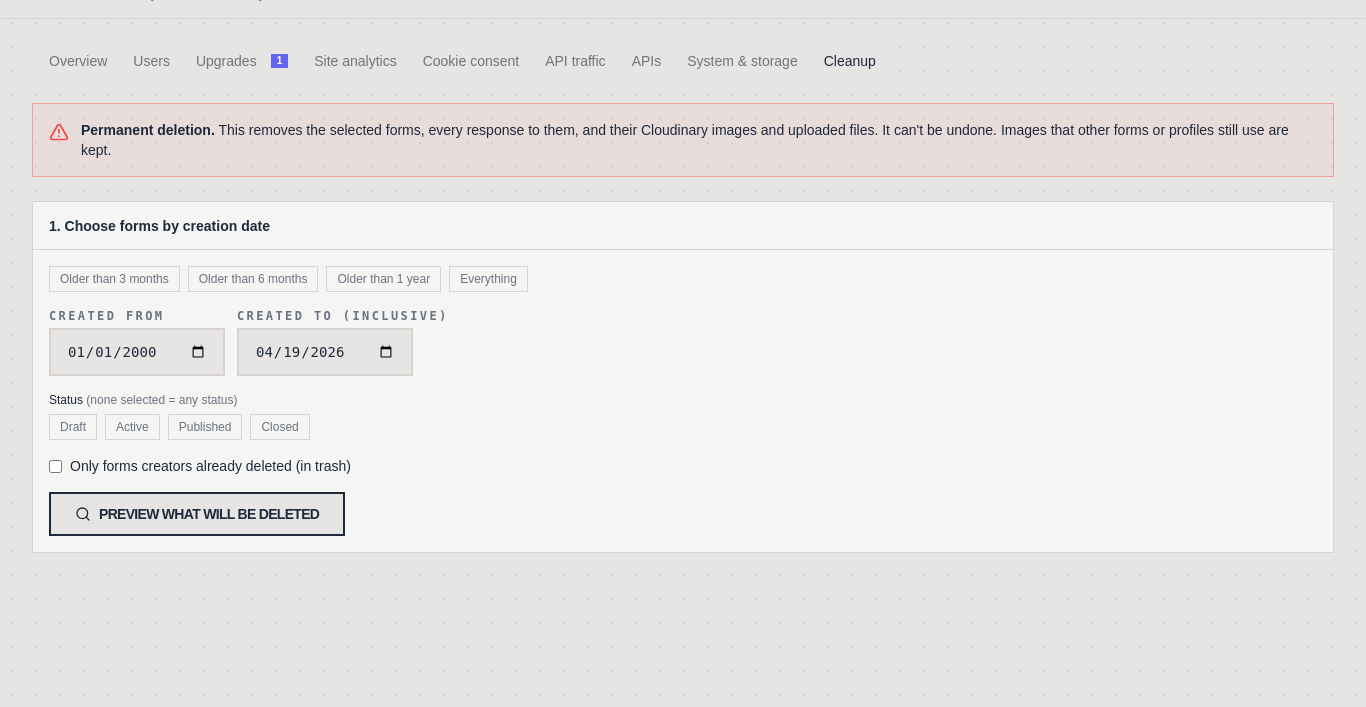
Scenario: Admin dashboard › cleanup: preview, then delete only after typing DELETE, sending the previewed count
Click the button "Preview what will be deleted". click: x=197, y=514
box: x1=49 y1=492 x2=345 y2=536
(page scrolled)
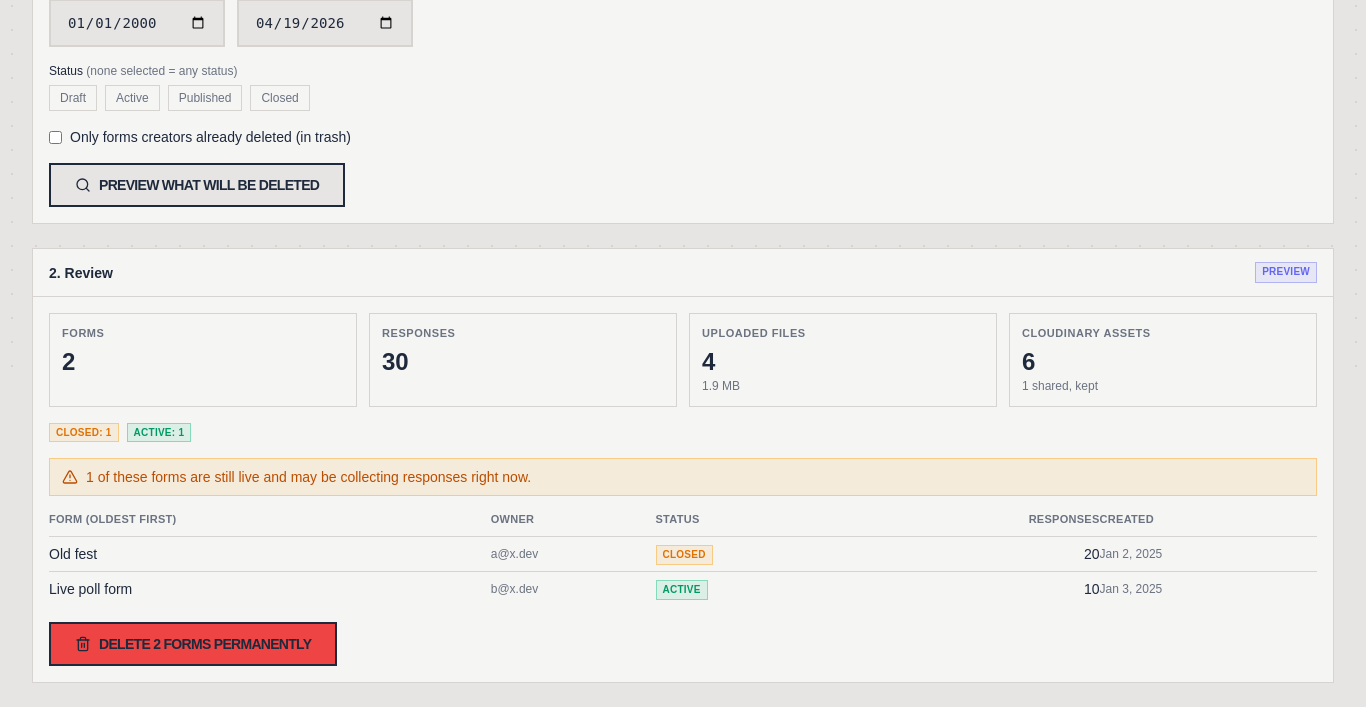
Now the text "Old fest" is shown, box x1=49 y1=536 x2=491 y2=572
Now the text "1 of these forms are still live" is shown, box x1=49 y1=458 x2=1317 y2=496
Now the text "1 shared, kept" is shown, box x1=1022 y1=379 x2=1098 y2=393
Click the button "Delete 2 forms permanently". click: x=193, y=644
box: x1=49 y1=622 x2=337 y2=666
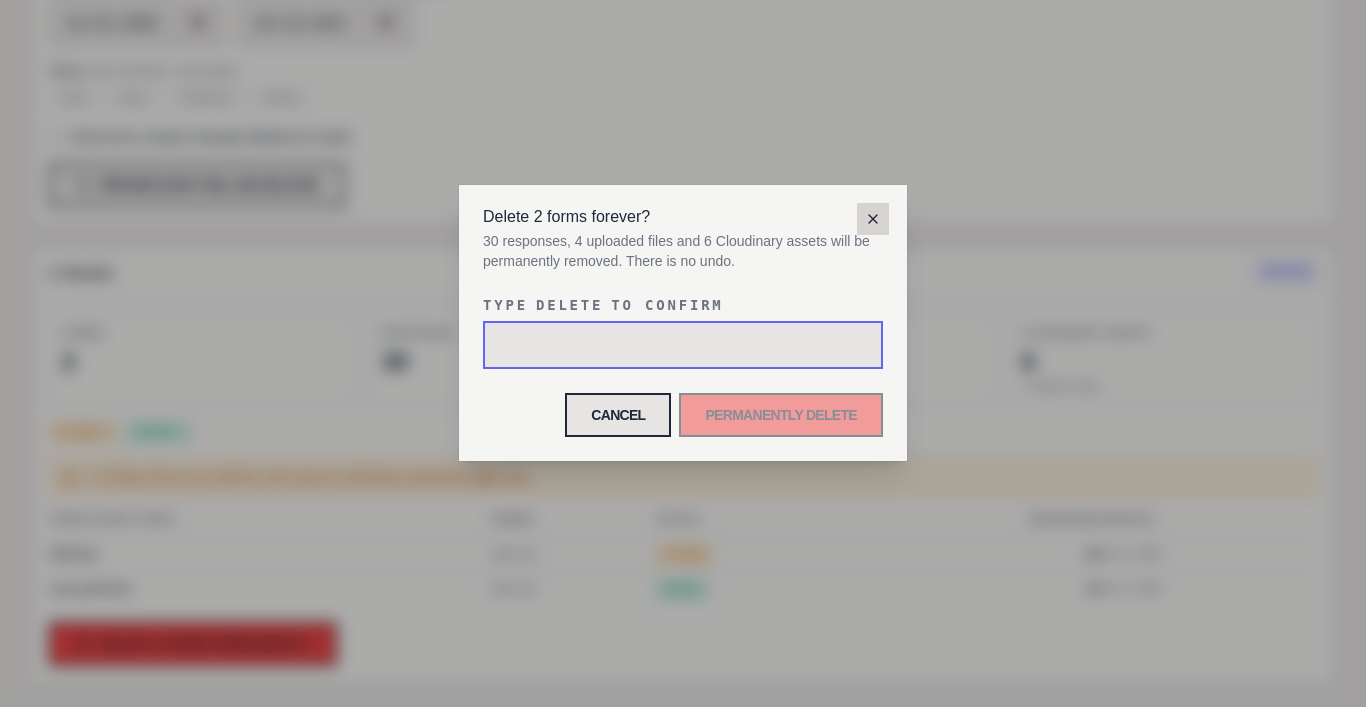
Now the button "Permanently delete" is disabled, box x1=680 y1=393 x2=883 y2=437
Type "delete" into the field labelled "Type DELETE to confirm". click: x=683, y=345
box: x1=483 y1=321 x2=883 y2=369
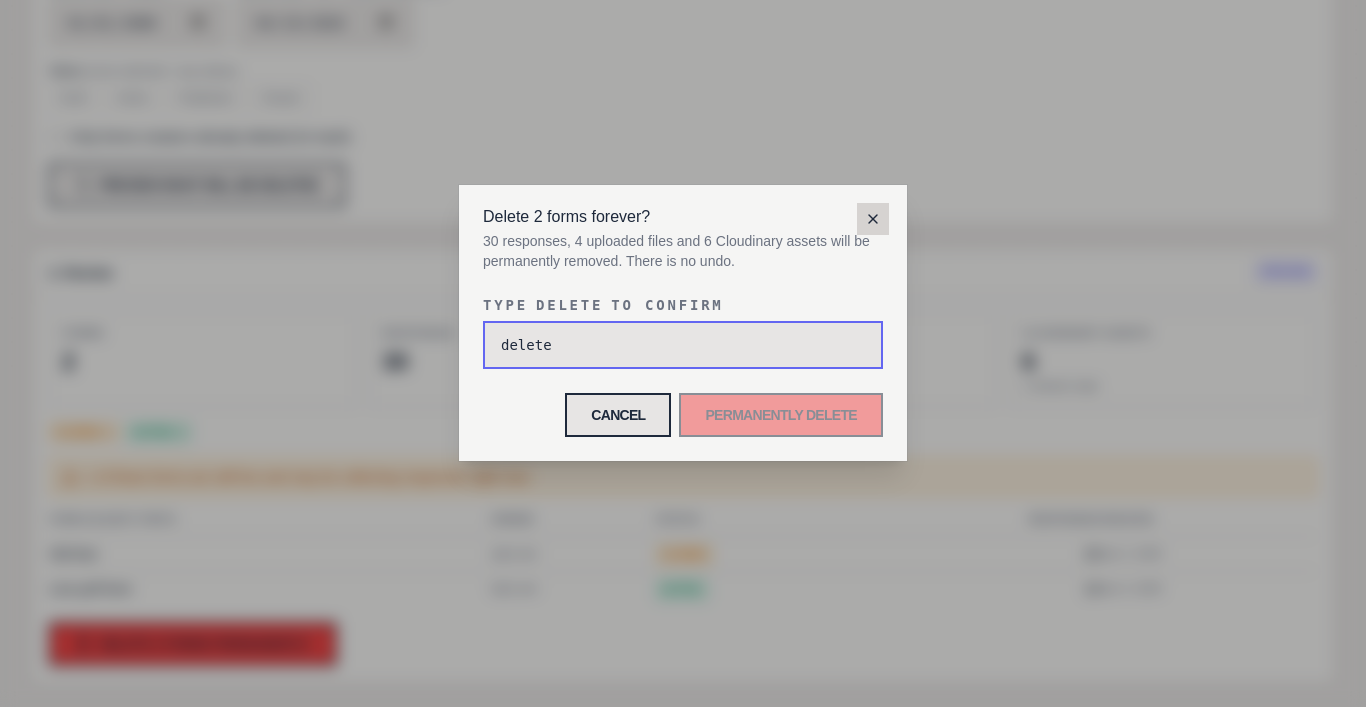
Now the button "Permanently delete" is disabled, box x1=680 y1=393 x2=883 y2=437
Replace the text in the field labelled "Type DELETE to confirm" with "DELETE". click: x=683, y=345
box: x1=483 y1=321 x2=883 y2=369
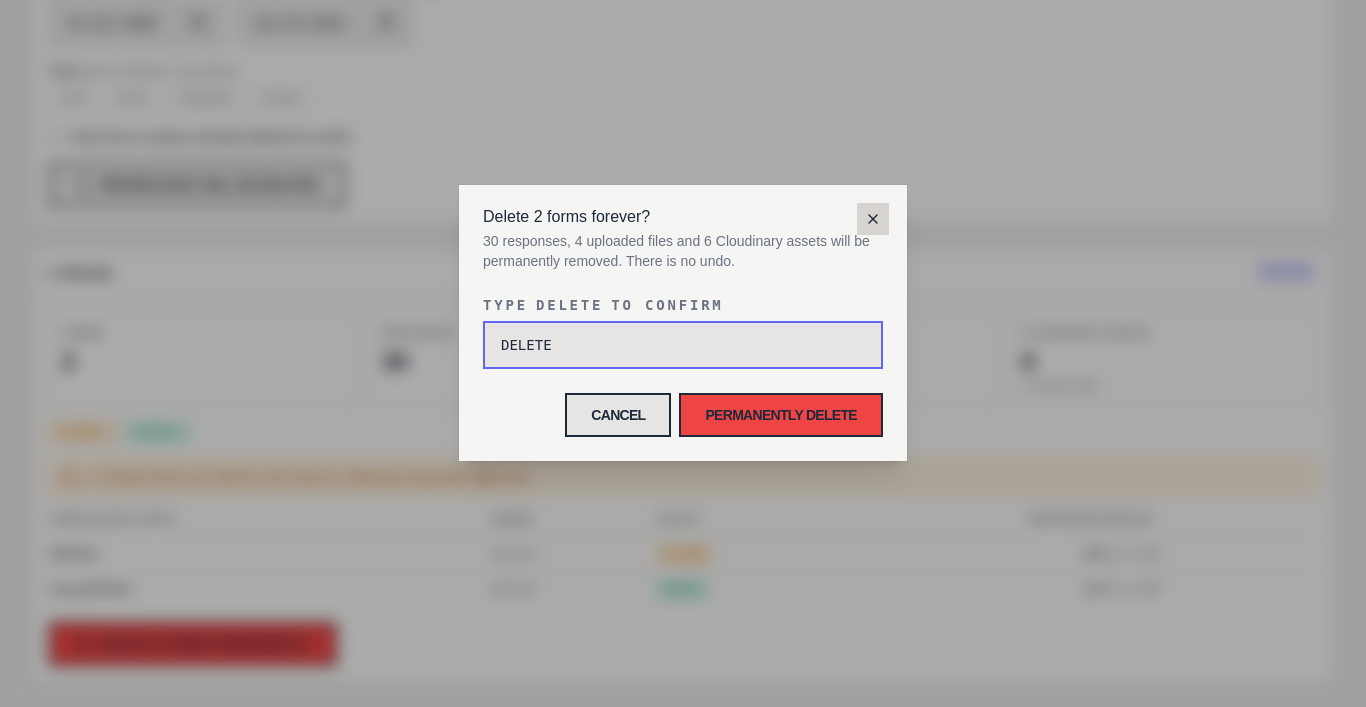
Click the button "Permanently delete". click: x=781, y=415
box: x1=680 y1=393 x2=883 y2=437
(page scrolled)
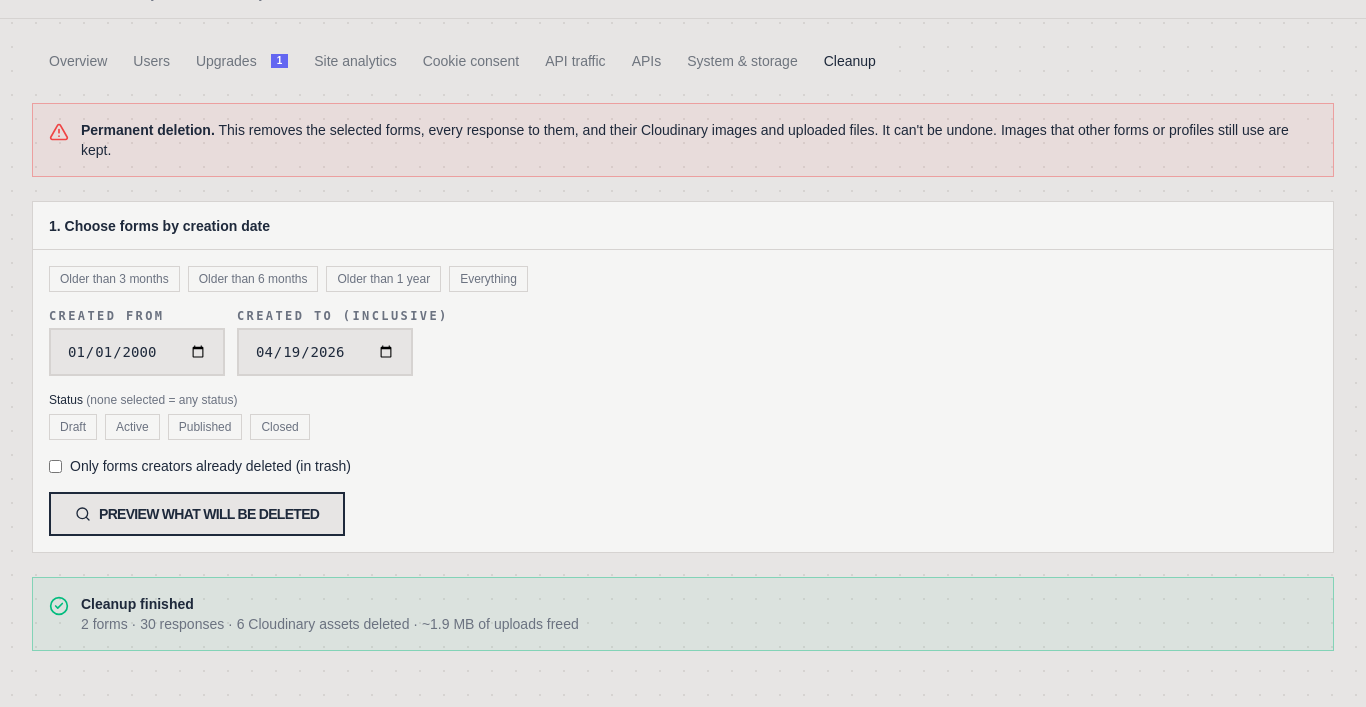
Now the text "Cleanup finished" is shown, box x1=81 y1=596 x2=194 y2=612
